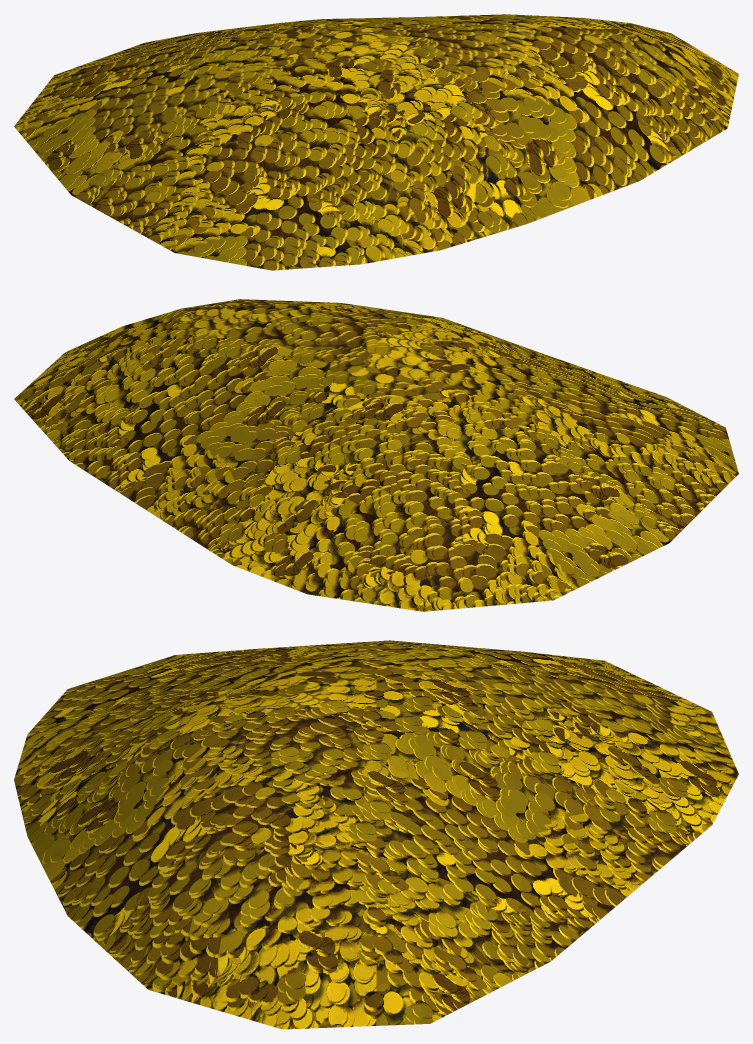
Rendered from INST_SM_GOLDPILE_MEDIUMA.fbx.
3 views of the same model, one above another, from view 1: azimuth 30°, elevation 25°; view 2: azimuth 150°, elevation 25°; view 3: azimuth 270°, elevation 25° (orthographic). The views are drawn at different scales.
Parts seen in each view (by area): view 1: INST_SM_GOLDPILE_MEDIUMA; view 2: INST_SM_GOLDPILE_MEDIUMA; view 3: INST_SM_GOLDPILE_MEDIUMA.
Part boxes in pixels (x1,y1,x2,y2): INST_SM_GOLDPILE_MEDIUMA: (14,14,738,270); INST_SM_GOLDPILE_MEDIUMA: (14,299,738,611); INST_SM_GOLDPILE_MEDIUMA: (14,640,738,1029).
Size of the model in its own units: 85000 by 13167 by 67500.
1 material, 1 textured.
